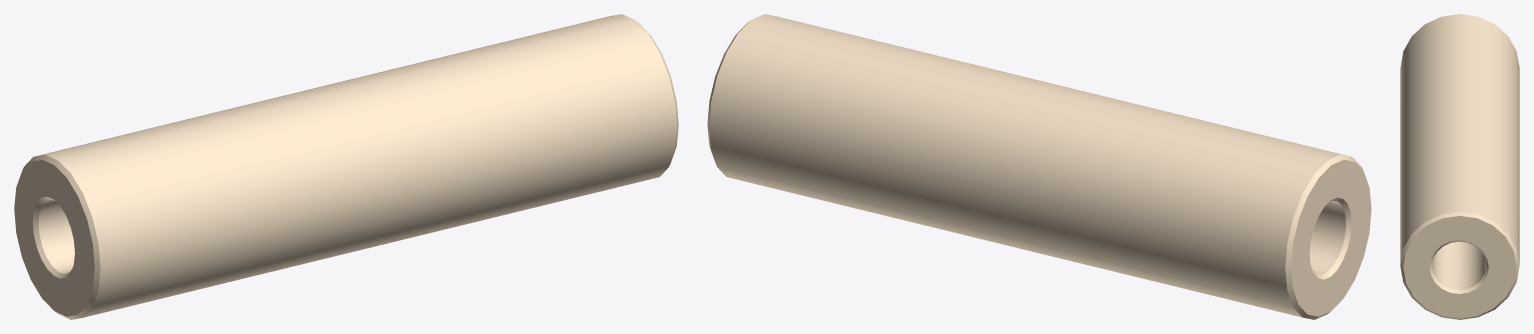
The model's file is Oden_Chikuwa.gltf.
3 renders of one model, left to right at view 1: azimuth 30°, elevation 25°; view 2: azimuth 150°, elevation 25°; view 3: azimuth 270°, elevation 25°, orthographic. The views are drawn at different scales.
Visible parts, largest first — view 1: Oden_Chikuwa; view 2: Oden_Chikuwa; view 3: Oden_Chikuwa.
Boxes of the visible parts, bbox=[...] form: Oden_Chikuwa: bbox=[14, 14, 678, 319]; Oden_Chikuwa: bbox=[707, 14, 1371, 319]; Oden_Chikuwa: bbox=[1400, 14, 1519, 319].
Size of the model in its own units: 3.18 by 0.799 by 0.7995.
1 material, 1 textured.
